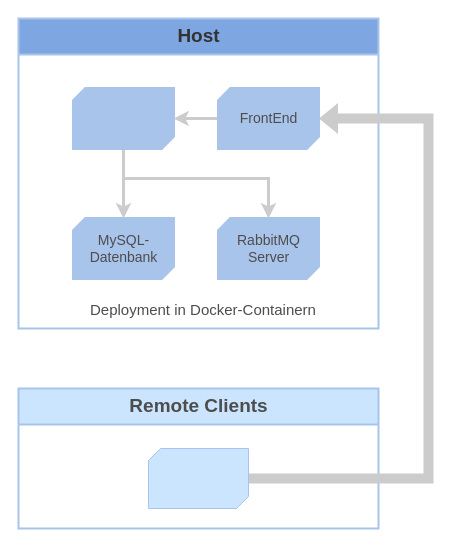
The diagram is 450 pixels wide and 546 high, and some of its shapes have lost their labels. Each missing label, with the centre of its shape:
"Backend" goes at [123,118].
"Browser" goes at [198,478].
